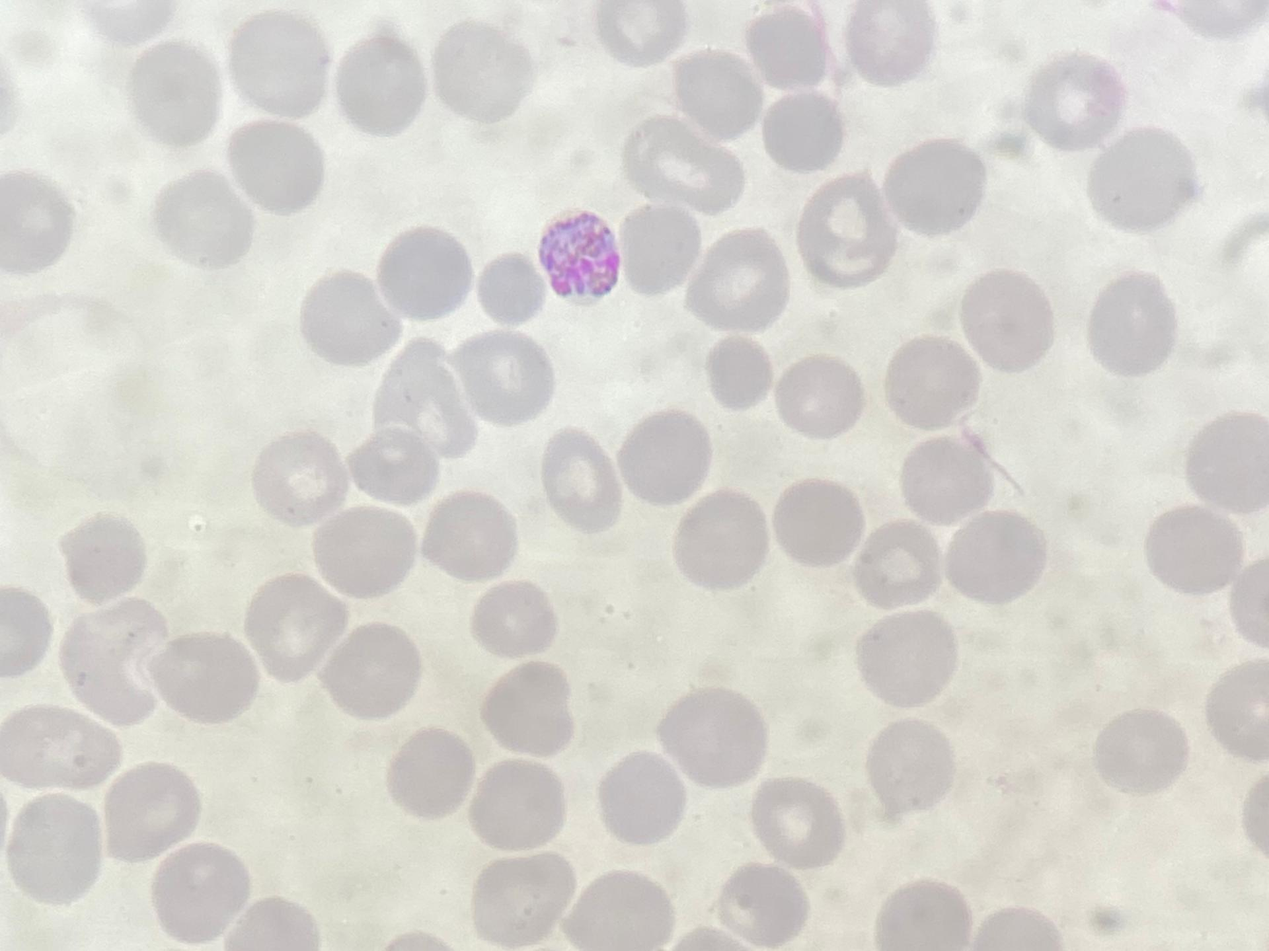Infected: (539, 205, 621, 307)
Uninfected: (57, 599, 171, 723), (371, 338, 481, 458), (623, 118, 746, 216), (1089, 124, 1199, 233), (794, 177, 899, 288), (244, 572, 351, 679), (657, 685, 766, 787), (7, 793, 107, 903), (431, 20, 536, 124), (683, 231, 788, 334), (228, 11, 330, 116), (2, 702, 119, 793), (146, 632, 259, 726), (147, 841, 252, 942), (102, 760, 204, 862), (882, 138, 987, 237), (310, 504, 416, 601), (855, 608, 958, 707), (1023, 50, 1124, 150), (151, 169, 253, 268), (957, 267, 1055, 370), (1085, 270, 1179, 377), (469, 853, 576, 947), (319, 622, 422, 719), (452, 330, 556, 426), (944, 509, 1047, 605), (672, 490, 769, 591), (465, 756, 568, 851), (227, 118, 327, 215), (128, 40, 222, 143), (250, 431, 350, 526), (420, 488, 521, 582), (615, 407, 712, 504), (479, 661, 577, 757), (375, 225, 474, 320), (334, 34, 428, 134), (559, 867, 670, 951), (865, 718, 958, 818), (883, 334, 981, 426), (1143, 504, 1241, 596), (299, 270, 395, 363), (57, 511, 150, 607), (385, 724, 478, 820), (748, 775, 843, 868), (1182, 412, 1269, 512), (771, 477, 864, 570), (899, 434, 994, 524), (540, 429, 626, 528), (598, 751, 690, 843), (851, 518, 944, 609), (1093, 708, 1189, 795), (671, 50, 766, 137), (718, 862, 813, 949), (617, 204, 703, 297), (347, 426, 442, 510), (1, 170, 77, 270), (744, 5, 831, 91), (774, 353, 863, 437), (845, 1, 935, 83), (469, 578, 558, 660), (760, 90, 845, 173), (874, 879, 974, 948), (1205, 660, 1269, 759), (596, 1, 686, 63), (705, 333, 775, 410), (221, 896, 317, 951), (477, 252, 545, 324), (1229, 556, 1269, 648)
